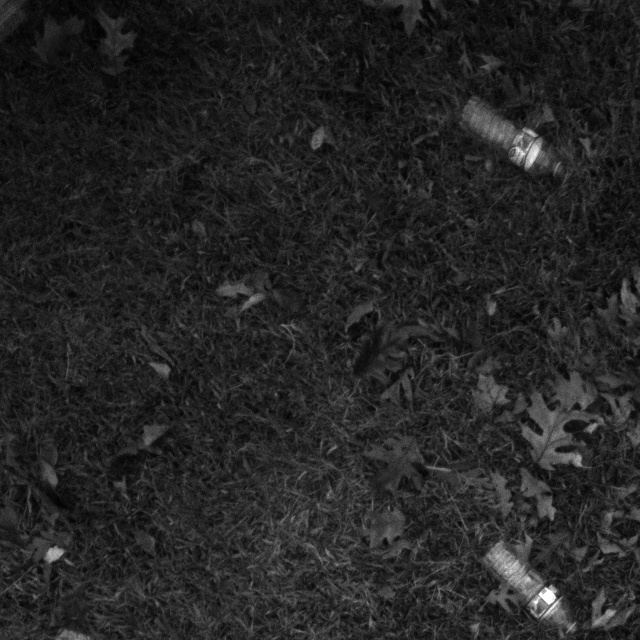bottle: (470, 530, 590, 640), (450, 86, 566, 185)
